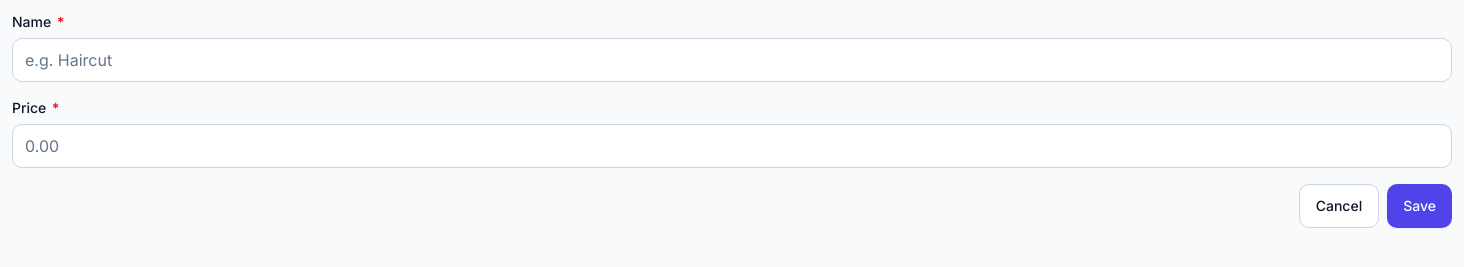
Scenario: ServiceForm › rejects a price of zero
Type "Haircut" into the field labelled "Name *" at coordinates (732, 60), box [12, 38, 1452, 82]
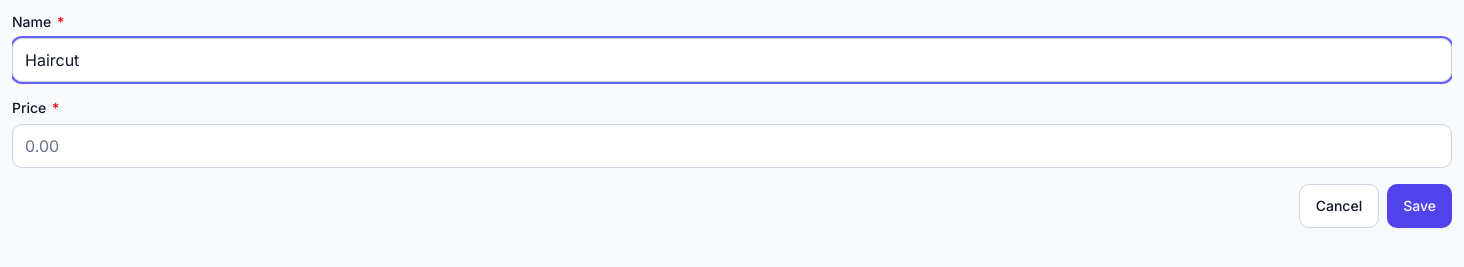
Type "0" into the number field labelled "Price *" at coordinates (732, 146), box [12, 124, 1452, 168]
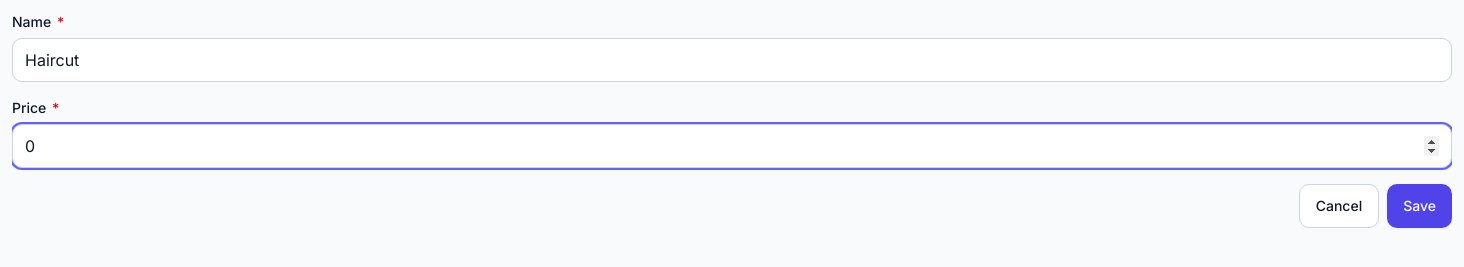
Click the button "Save" at coordinates (1420, 206), box [1387, 184, 1452, 228]
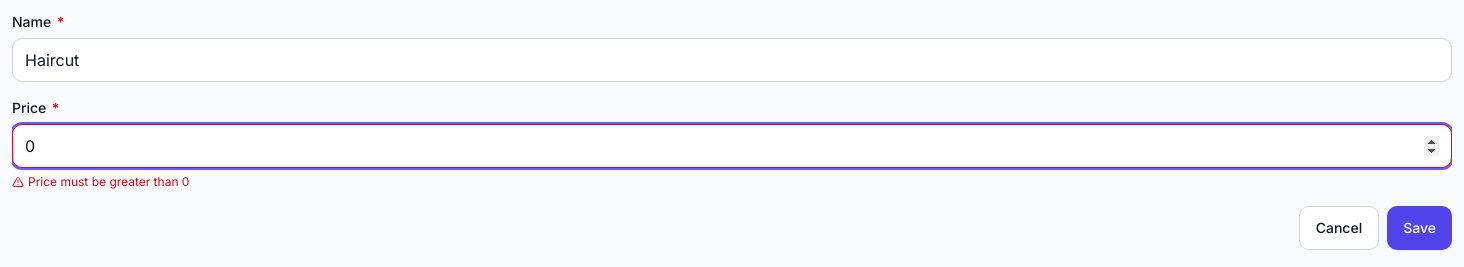
Result: the text "Price must be greater than 0" is shown at [12, 174, 189, 189]
